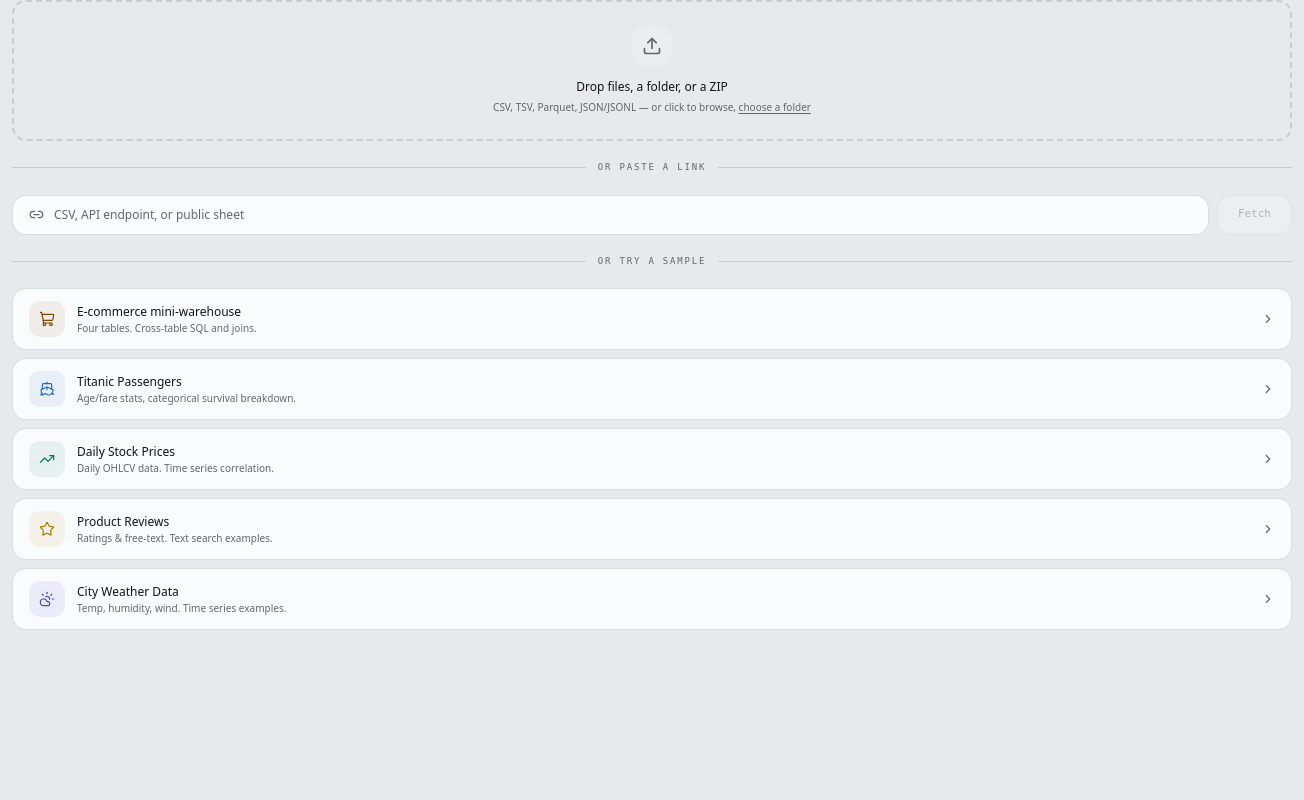
Test: IngestionPanel › surfaces a relay rate-limit failure as a plain error banner, not a hang or retry
Type "https://blocked.example.com/data" into the field named "API URL".
click(623, 214); type("https://blocked.example.com/data")  # box [54,206,1192,224]
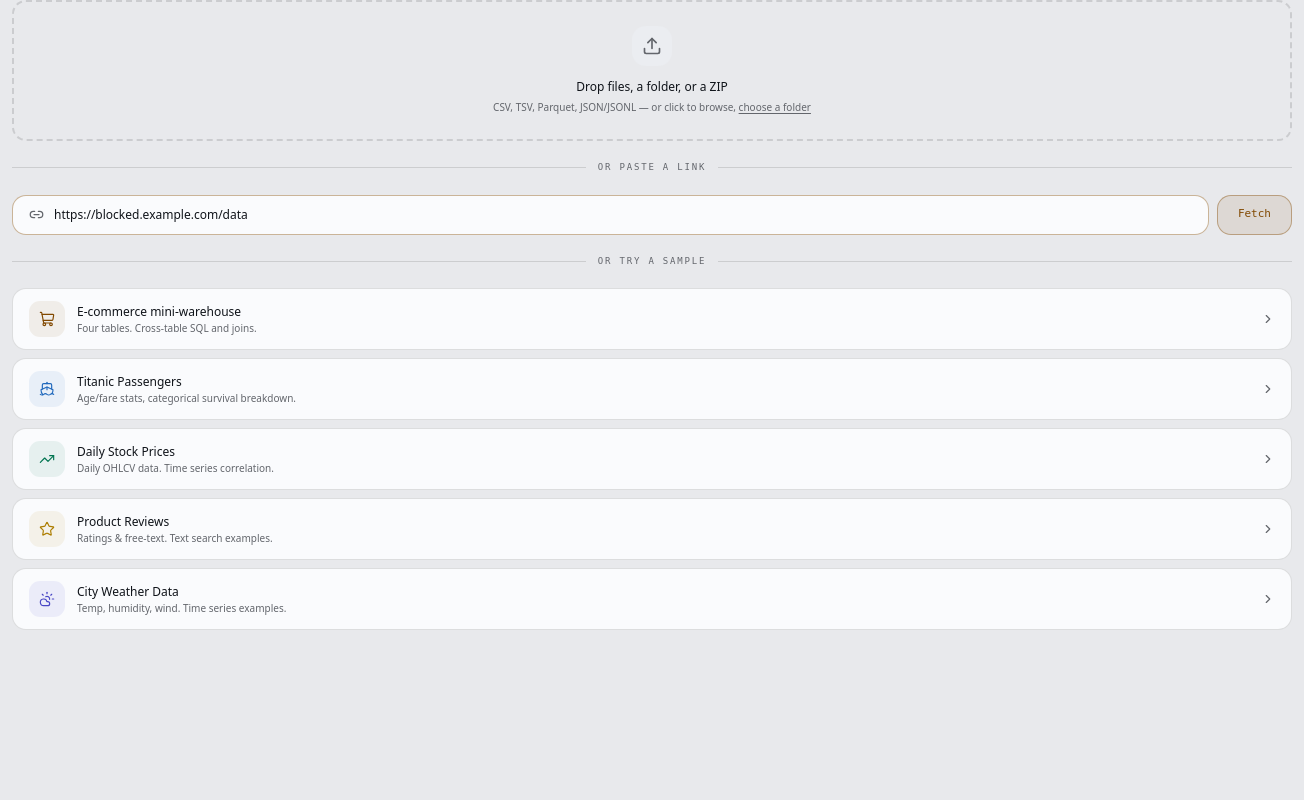
Click the button "Fetch".
click(1254, 214)  # box [1217,194,1292,234]
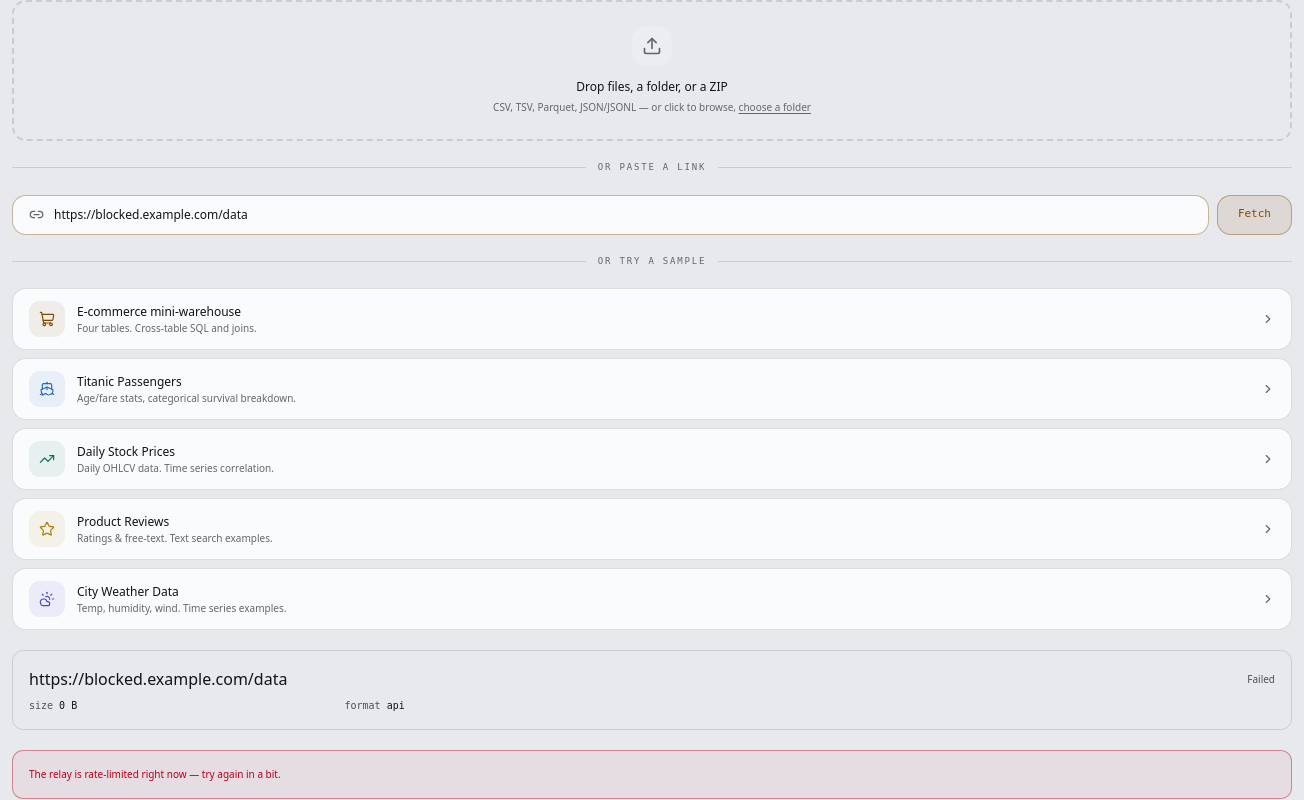
Result: the text "rate-limited right now" is shown at [29,767,281,781]
